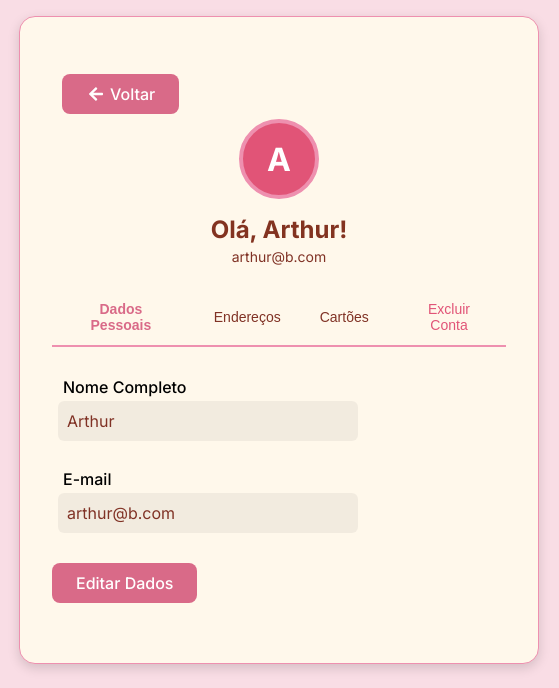
Test: Profile › clicar em "Cancelar" deve sair do modo de edição e restaurar os dados
Click the button "Editar Dados" at x=125, y=583, box [52,563,197,603]
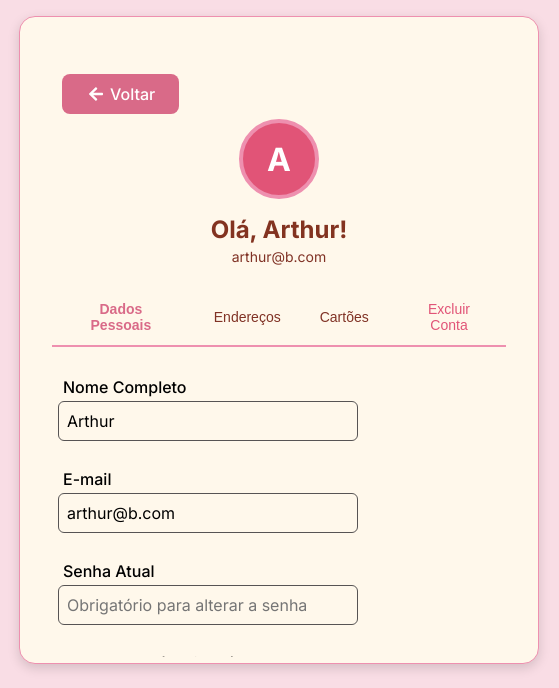
Replace the text in the field below "Nome Completo" with "Outro Nome" at x=208, y=421, box [58,401,358,441]
(page scrolled)
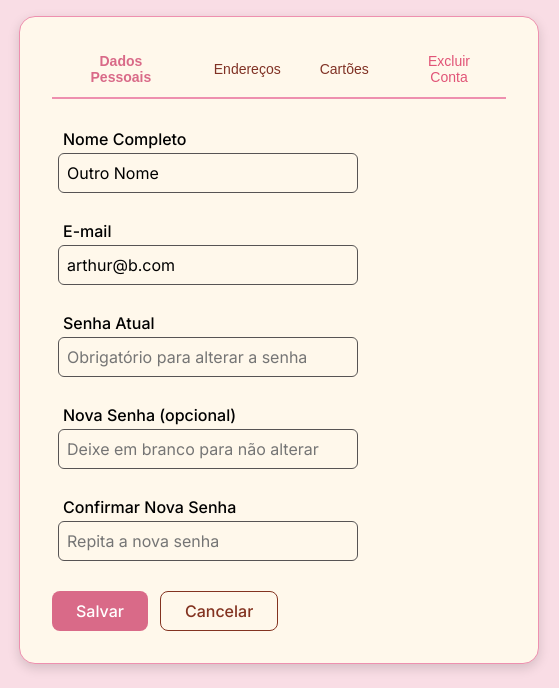
Click the button "Cancelar" at x=219, y=611, box [160,591,278,631]
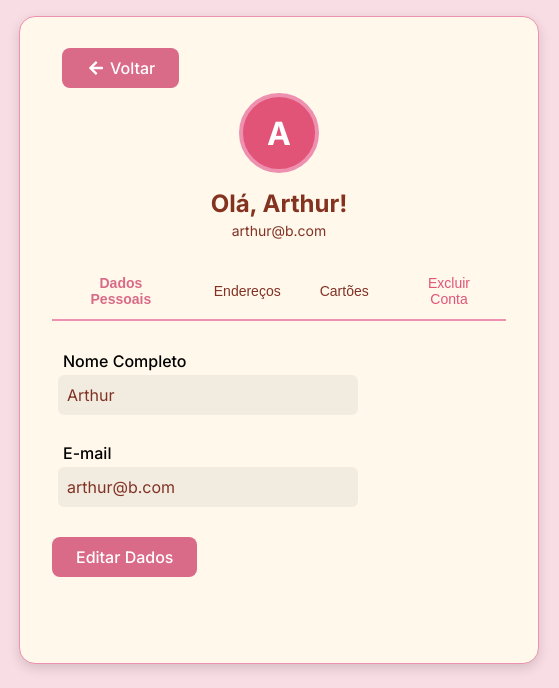
Check: the heading "Olá, Arthur!" is shown, box [211,189,347,218]
